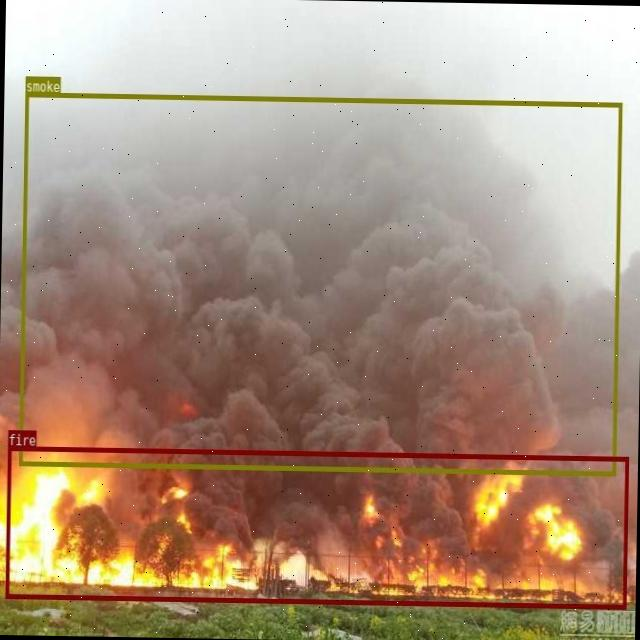fire: (5, 446, 628, 608)
smoke: (19, 91, 622, 475)
